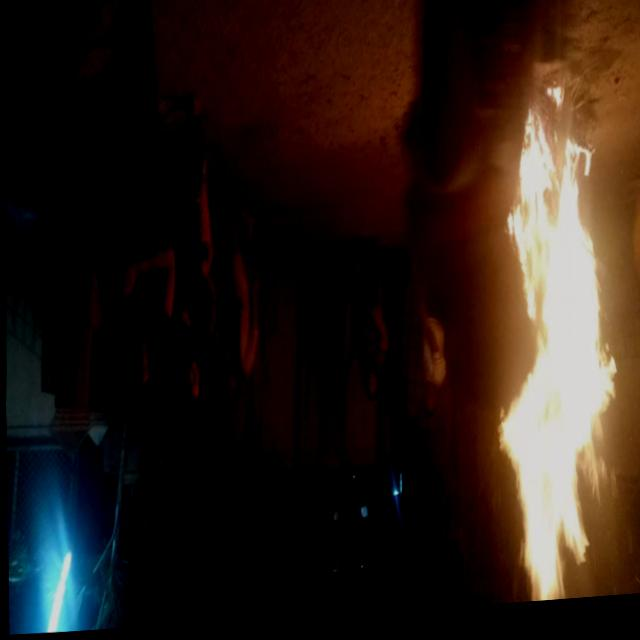Fire: (489, 100, 621, 612)
